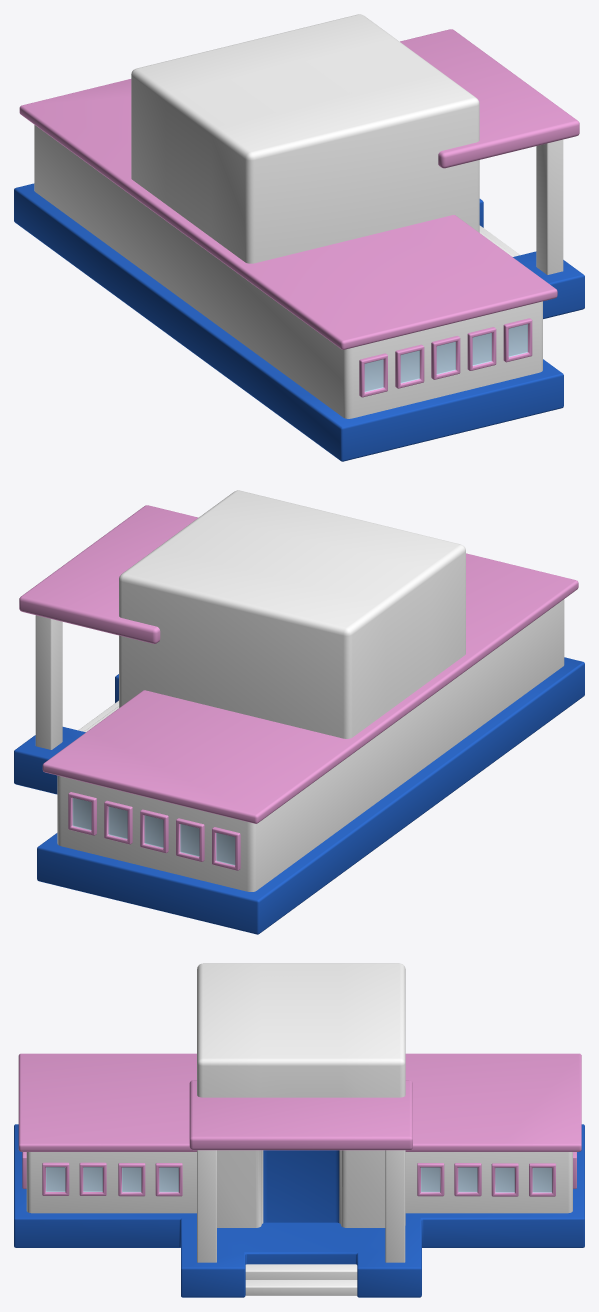
Rendered from PIP_nursing-home-3d-6.glb.
The picture shows the model from 3 angles, top to bottom: view 1: azimuth 30°, elevation 25°; view 2: azimuth 150°, elevation 25°; view 3: azimuth 270°, elevation 25°; orthographic projection. The views are drawn at different scales.
Visible parts, largest first — view 1: Cube.089, Cube.092, Cube.091, Cube.094, Cube.095, Cube.103, Cube.099; view 2: Cube.089, Cube.092, Cube.091, Cube.094, Cube.095, Cube.104, Cube.098; view 3: Cube.089, Cube.092, Cube.094, Cube.091, Cube.095, Cube.098, Cube.099, Cube.097, Cube.096, Cube.102, Cube.105, Cube.100 (+5 smaller).
Part boxes in pixels (left/top/right/bottom): Cube.089: left=131, top=14, right=479, bottom=263; Cube.092: left=19, top=79, right=557, bottom=349; Cube.091: left=34, top=125, right=542, bottom=418; Cube.094: left=14, top=183, right=584, bottom=461; Cube.095: left=400, top=29, right=579, bottom=168; Cube.103: left=359, top=318, right=532, bottom=397; Cube.099: left=536, top=139, right=563, bottom=274; Cube.089: left=119, top=490, right=465, bottom=738; Cube.092: left=42, top=553, right=578, bottom=823; Cube.091: left=57, top=599, right=564, bottom=891; Cube.094: left=14, top=657, right=584, bottom=934; Cube.095: left=19, top=505, right=198, bottom=643; Cube.104: left=68, top=792, right=240, bottom=870; Cube.098: left=35, top=615, right=62, bottom=749; Cube.089: left=197, top=963, right=405, bottom=1227; Cube.092: left=18, top=1053, right=581, bottom=1151; Cube.094: left=14, top=1124, right=584, bottom=1297; Cube.091: left=26, top=1152, right=572, bottom=1213; Cube.095: left=189, top=1080, right=412, bottom=1150; Cube.098: left=385, top=1150, right=405, bottom=1262; Cube.099: left=197, top=1150, right=216, bottom=1262; Cube.097: left=245, top=1280, right=357, bottom=1295; Cube.096: left=245, top=1264, right=357, bottom=1279; Cube.102: left=454, top=1163, right=481, bottom=1196; Cube.105: left=118, top=1163, right=145, bottom=1196; Cube.100: left=155, top=1163, right=182, bottom=1196.
Bounding box in the file's own units: 0.8053 × 0.5128 × 1.34.
